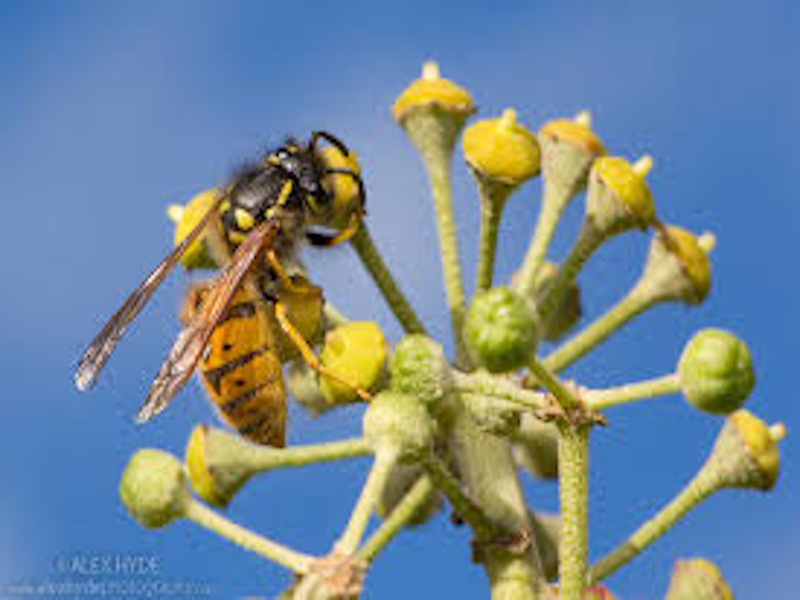chax: (75, 108, 389, 479)
